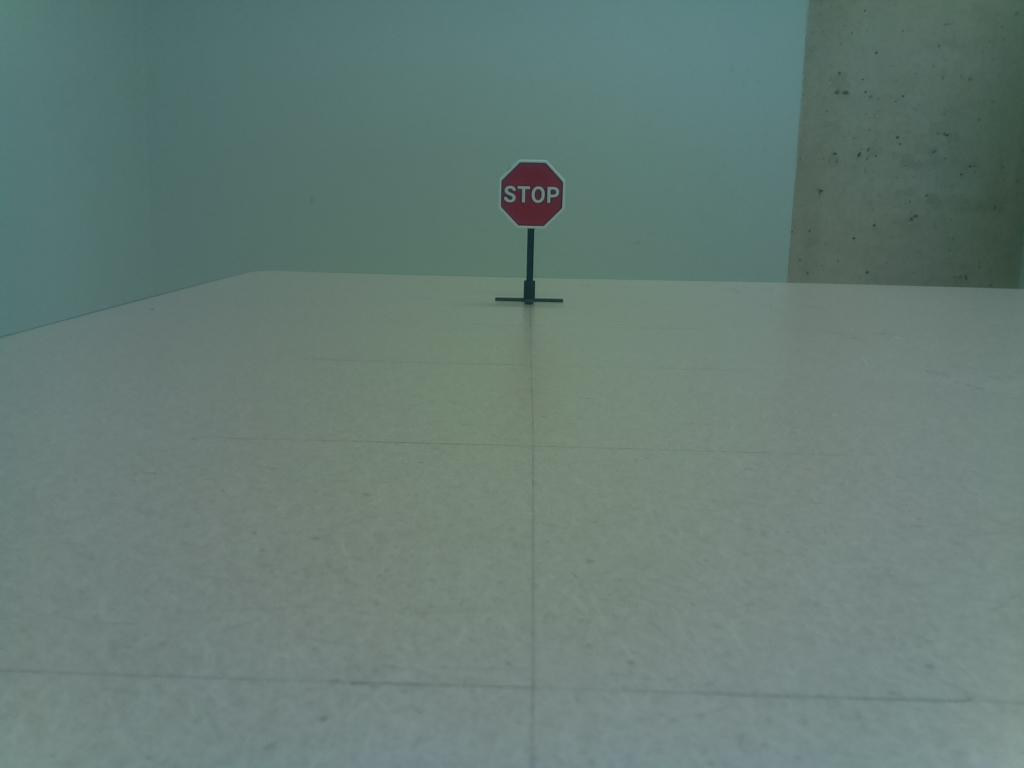sign_stop: (492, 157, 571, 235)
